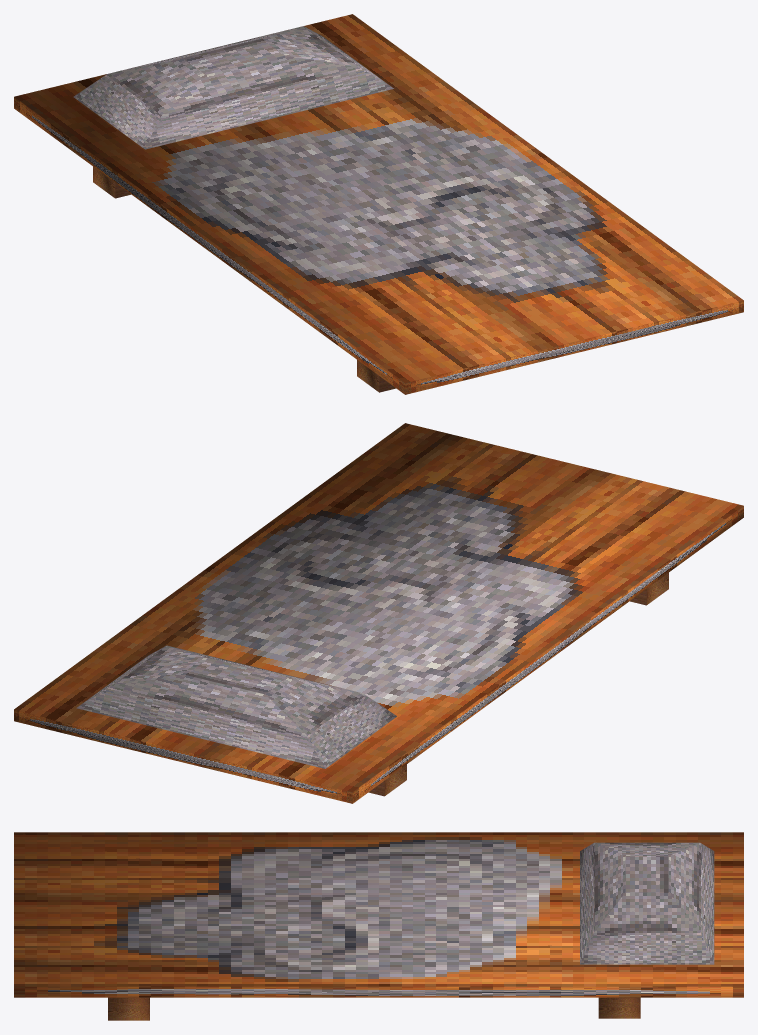
File: PALLET_ACTORDEF.fbx
The picture shows the model from 3 angles, top to bottom: view 1: azimuth 30°, elevation 25°; view 2: azimuth 150°, elevation 25°; view 3: azimuth 270°, elevation 25°; orthographic projection. The views are drawn at different scales.
Visible parts, largest first — view 1: U3DMesh; view 2: U3DMesh; view 3: U3DMesh.
Part boxes in pixels (x1,y1,x2,y2): U3DMesh: (14,14,743,394); U3DMesh: (14,423,743,803); U3DMesh: (14,832,743,1020).
Bounding box in the file's own units: 4.54 × 1.14 × 9.08.
